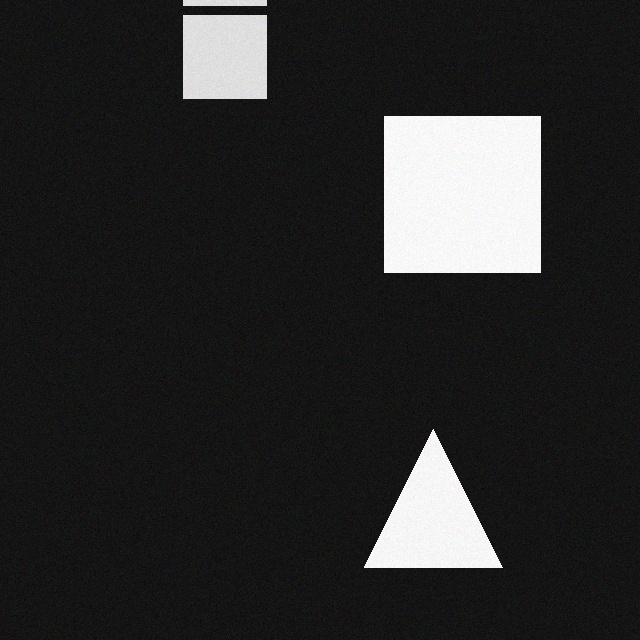square: (385, 106, 541, 262), (184, 5, 267, 88)
triangle: (365, 419, 503, 557)
